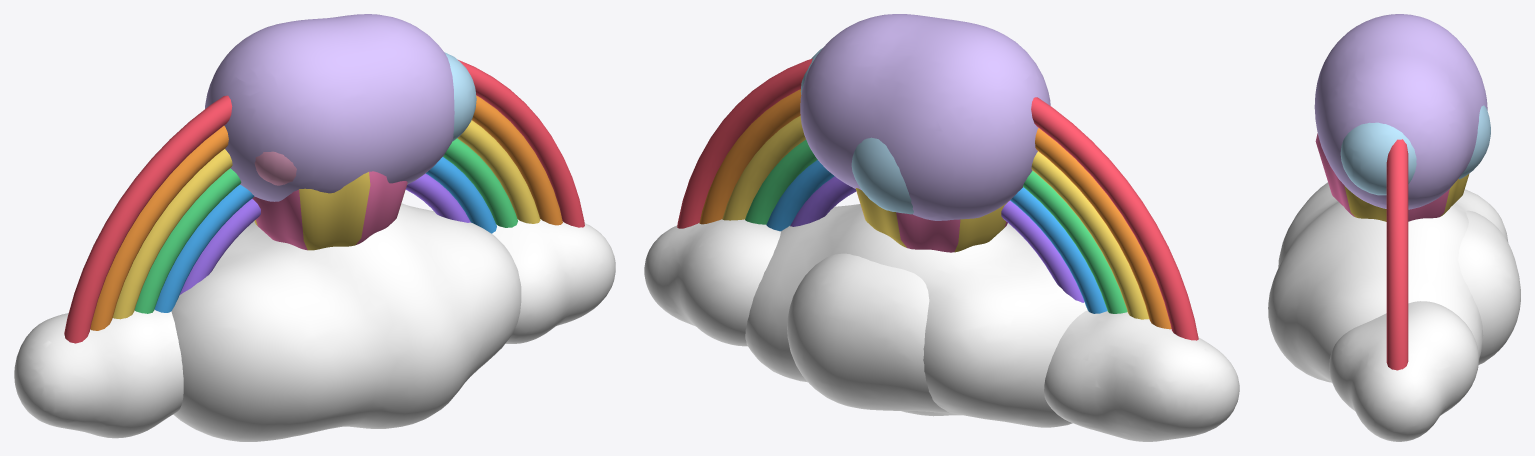
File: kit_candy.glb
The picture shows the model from 3 angles, left to right: view 1: azimuth 30°, elevation 25°; view 2: azimuth 150°, elevation 25°; view 3: azimuth 270°, elevation 25°; orthographic projection. The views are drawn at different scales.
Visible parts, largest first — view 1: rainbow_mesh, cloud2_mesh, candytree2_mesh, balloon_mesh, candytree1_mesh, candytree0_mesh; view 2: rainbow_mesh, candytree2_mesh, cloud2_mesh, cloud1_mesh, balloon_mesh, candytree1_mesh; view 3: cloud2_mesh, candytree2_mesh, rainbow_mesh, cloud1_mesh, candytree1_mesh, balloon_mesh.
Boxes of the visible parts, x1,y1,x2,y2 form: rainbow_mesh: (14, 59, 615, 438); cloud2_mesh: (171, 203, 521, 441); candytree2_mesh: (205, 14, 454, 201); balloon_mesh: (252, 171, 407, 250); candytree1_mesh: (444, 52, 476, 141); candytree0_mesh: (254, 151, 296, 185); rainbow_mesh: (644, 58, 1239, 441); candytree2_mesh: (800, 14, 1050, 220); cloud2_mesh: (745, 204, 1087, 427); cloud1_mesh: (787, 253, 948, 412); balloon_mesh: (855, 188, 1009, 252); candytree1_mesh: (800, 47, 913, 214); cloud2_mesh: (1268, 182, 1508, 382); candytree2_mesh: (1314, 14, 1487, 209); rainbow_mesh: (1329, 139, 1478, 441); cloud1_mesh: (1458, 210, 1520, 364); candytree1_mesh: (1340, 105, 1490, 195); balloon_mesh: (1315, 133, 1469, 221).
Bounding box in the file's own units: 4.63 × 2.91 × 1.99.
